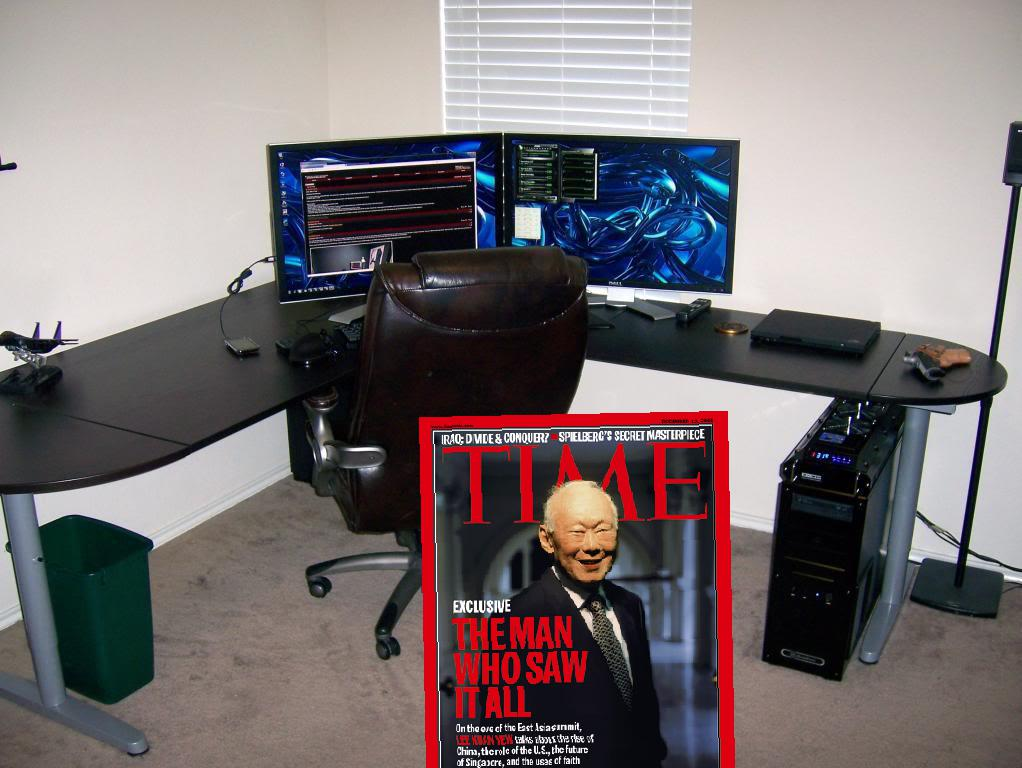times: (415, 409, 736, 768)
